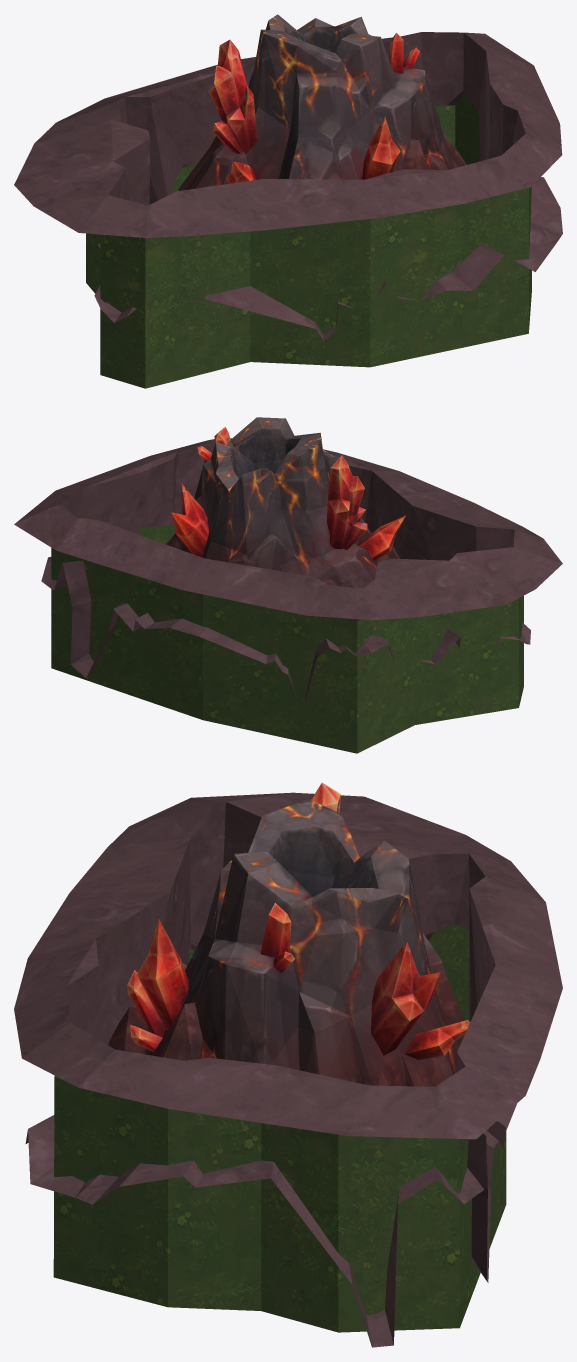
The model's file is yandong_02.FBX.
The picture shows the model from 3 angles, top to bottom: view 1: azimuth 30°, elevation 25°; view 2: azimuth 150°, elevation 25°; view 3: azimuth 270°, elevation 25°; orthographic projection. The views are drawn at different scales.
Visible parts, largest first — view 1: yandong_02c, yandong_02b, yandong_02a; view 2: yandong_02c, yandong_02b, yandong_02a; view 3: yandong_02b, yandong_02c, yandong_02a.
Boxes of the visible parts, x1,y1,x2,y2 form: yandong_02c: (86, 92, 531, 388); yandong_02b: (14, 32, 562, 341); yandong_02a: (178, 14, 467, 190); yandong_02c: (51, 513, 523, 753); yandong_02b: (14, 438, 562, 702); yandong_02a: (166, 417, 405, 588); yandong_02b: (14, 792, 562, 1347); yandong_02c: (53, 924, 506, 1332); yandong_02a: (108, 782, 469, 1086).
Size of the model in its own units: 17.44 by 8.8 by 11.82.
